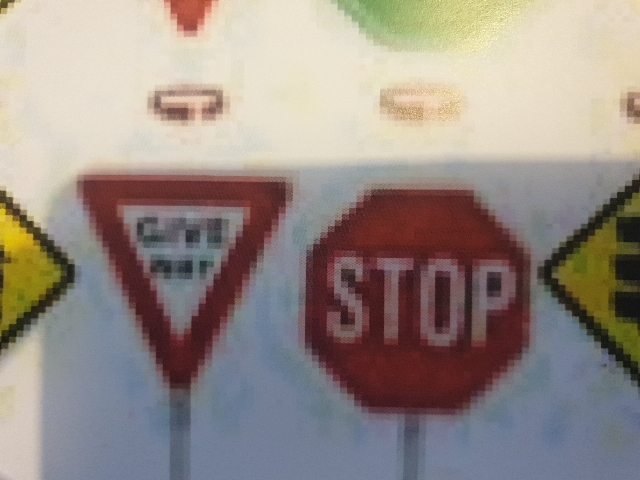giveway: (56, 161, 298, 372)
stop: (321, 182, 530, 406)
